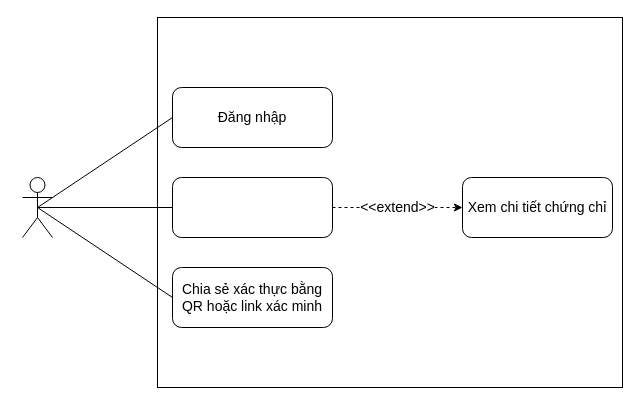
Image size: 640x405. Some labels were removed from this diagram. Each missing label, with the centre of its shape:
Holder: (37,207)
Xem danh sách chứng chỉ được cấp cho mình: (252,207)
